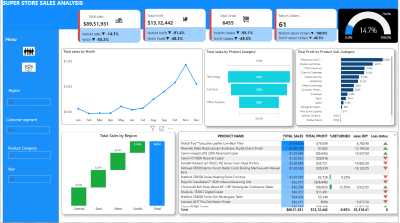

What the dashboard file says about the page in this screenshot:
{"tool":"powerbi","page":{"name":"Summery","canvas":[1920,1080],"ordinal":0},"visuals":[{"type":"shape","box":[10.5,0,1909.9,146.5],"z":0},{"type":"slicer","fields":{"Values":["Customer.Customer Segment"]},"box":[20.9,602.8,226.8,65],"z":0,"group":"g1"},{"type":"slicer","fields":{"Values":["Customer.Region"]},"box":[24.5,470.5,226.8,73.1],"z":1000,"group":"g1"},{"type":"shape","box":[495.4,134.3,167.4,12.2],"z":1000},{"type":"slicer","fields":{"Values":["Product-category.Product Category"]},"box":[28.2,727,223.3,57.6],"z":2000,"group":"g1"},{"type":"slicer","fields":{"Values":["Customer.Region"]},"box":[10.6,610.1,237,63.7],"z":2000},{"type":"textbox","box":[29.8,703.5,177,46.1],"z":3000,"group":"g1"},{"type":"slicer","fields":{"Values":["Customer.Region"]},"box":[21.2,599.4,237,63.7],"z":3000},{"type":"textbox","box":[20.9,566,187.9,42.7],"z":4000,"group":"g1"},{"type":"shape","box":[10.5,144.8,270.3,934.9],"z":4000},{"type":"textbox","box":[32.7,423.8,162.5,46.7],"z":5000,"group":"g1"},{"type":"funnel","fields":{"Category":["Product-category.Product Category"],"Y":["_measures.Total sales"]},"box":[987.2,240.7,425.6,373.3],"z":5000},{"type":"barChart","fields":{"Category":["ProductSub-category.Product Sub-Category"],"Y":["_measures.Total Profit"]},"box":[1426.7,240.7,479.7,373.3],"z":6000},{"type":"pivotTable","fields":{"Rows":["Product.Product Name"],"Values":["_measures.Total sales","_measures.Total Profit","_measures.% Returned Orders","sales_measures.sales Diff","_measures.Loss status"]},"box":[858.1,641.9,1062.2,397.7],"z":7000},{"type":"waterfallChart","title":"Total Sales by Region","fields":{"Category":["Customer.Region"],"Y":["_measures.Total sales"]},"box":[294.8,643.6,547.7,395.9],"z":8000},{"type":"lineChart","fields":{"Category":["Calender.Month"],"Y":["_measures.Total sales"]},"box":[294.8,239,682,369.8],"z":9000},{"type":"cardVisual","fields":{"Data":["_measures.Total sales"]},"box":[369.8,47.1,314,170],"z":10000},{"type":"cardVisual","fields":{"Data":["_measures.Total Profit"]},"box":[683.7,41.9,313,170],"z":11000},{"type":"cardVisual","fields":{"Data":["_measures.Total Order"]},"box":[1004.4,42.4,314.8,169.8],"z":12000},{"type":"cardVisual","fields":{"Data":["_measures.TotalReturn Orders"]},"box":[1319.1,42.4,313,169.8],"z":13000},{"type":"gauge","fields":{"Y":["_measures.%Profit"],"TargetValue":["_measures.Target Profit"]},"box":[1632.1,47.7,288.2,164.5],"z":14000},{"type":"group","id":"g1","title":"Group 1","box":[20.9,423.8,232.3,476.9],"z":15000},{"type":"textbox","box":[17.4,614,153.5,59.3],"z":16000},{"type":"textbox","box":[29.7,804.1,113.4,47.1],"z":17000},{"type":"image","title":"Customer Icon","box":[104.7,216.3,66.3,73.3],"z":18000},{"type":"image","title":"Product Icon","box":[97.7,303.5,78.5,54.1],"z":19000},{"type":"textbox","box":[17.4,174.4,125.6,41.9],"z":19001},{"type":"slicer","fields":{"Values":["Calender.Date.Variation.Date Hierarchy.Year","Calender.Date.Variation.Date Hierarchy.Quarter","Calender.Date.Variation.Date Hierarchy.Month","Calender.Date.Variation.Date Hierarchy.Day"]},"box":[28.2,843.7,225,57],"z":21001,"group":"g1"}]}

Visuals, with their boxes in screenshot pixels (x1, y1, x2, y2), scaled from the page's 1920x1080 canvas onto the 400x223 screenshot:
shape: {"x1": 2, "y1": 0, "x2": 399, "y2": 30}
slicer - Customer.Customer Segment: {"x1": 4, "y1": 124, "x2": 52, "y2": 138}
slicer - Customer.Region: {"x1": 5, "y1": 97, "x2": 52, "y2": 112}
shape: {"x1": 103, "y1": 28, "x2": 138, "y2": 30}
slicer - Product-category.Product Category: {"x1": 6, "y1": 150, "x2": 52, "y2": 162}
slicer - Customer.Region: {"x1": 2, "y1": 126, "x2": 52, "y2": 139}
textbox: {"x1": 6, "y1": 145, "x2": 43, "y2": 155}
slicer - Customer.Region: {"x1": 4, "y1": 124, "x2": 54, "y2": 137}
textbox: {"x1": 4, "y1": 117, "x2": 44, "y2": 126}
shape: {"x1": 2, "y1": 30, "x2": 59, "y2": 222}
textbox: {"x1": 7, "y1": 88, "x2": 41, "y2": 97}
funnel - Product-category.Product Category x _measures.Total sales: {"x1": 206, "y1": 50, "x2": 294, "y2": 127}
barChart - ProductSub-category.Product Sub-Category x _measures.Total Profit: {"x1": 297, "y1": 50, "x2": 397, "y2": 127}
pivotTable - Product.Product Name x _measures.Total sales: {"x1": 179, "y1": 133, "x2": 399, "y2": 215}
"Total Sales by Region" waterfallChart: {"x1": 61, "y1": 133, "x2": 176, "y2": 215}
lineChart - Calender.Month x _measures.Total sales: {"x1": 61, "y1": 49, "x2": 204, "y2": 126}
cardVisual - _measures.Total sales: {"x1": 77, "y1": 10, "x2": 142, "y2": 45}
cardVisual - _measures.Total Profit: {"x1": 142, "y1": 9, "x2": 208, "y2": 44}
cardVisual - _measures.Total Order: {"x1": 209, "y1": 9, "x2": 275, "y2": 44}
cardVisual - _measures.TotalReturn Orders: {"x1": 275, "y1": 9, "x2": 340, "y2": 44}
gauge - _measures.%Profit x _measures.Target Profit: {"x1": 340, "y1": 10, "x2": 399, "y2": 44}
"Group 1" group: {"x1": 4, "y1": 88, "x2": 53, "y2": 186}
textbox: {"x1": 4, "y1": 127, "x2": 36, "y2": 139}
textbox: {"x1": 6, "y1": 166, "x2": 30, "y2": 176}
"Customer Icon" image: {"x1": 22, "y1": 45, "x2": 36, "y2": 60}
"Product Icon" image: {"x1": 20, "y1": 63, "x2": 37, "y2": 74}
textbox: {"x1": 4, "y1": 36, "x2": 30, "y2": 45}
slicer - Calender.Date.Variation.Date Hierarchy.Year x Calender.Date.Variation.Date Hierarchy.Quarter: {"x1": 6, "y1": 174, "x2": 53, "y2": 186}
